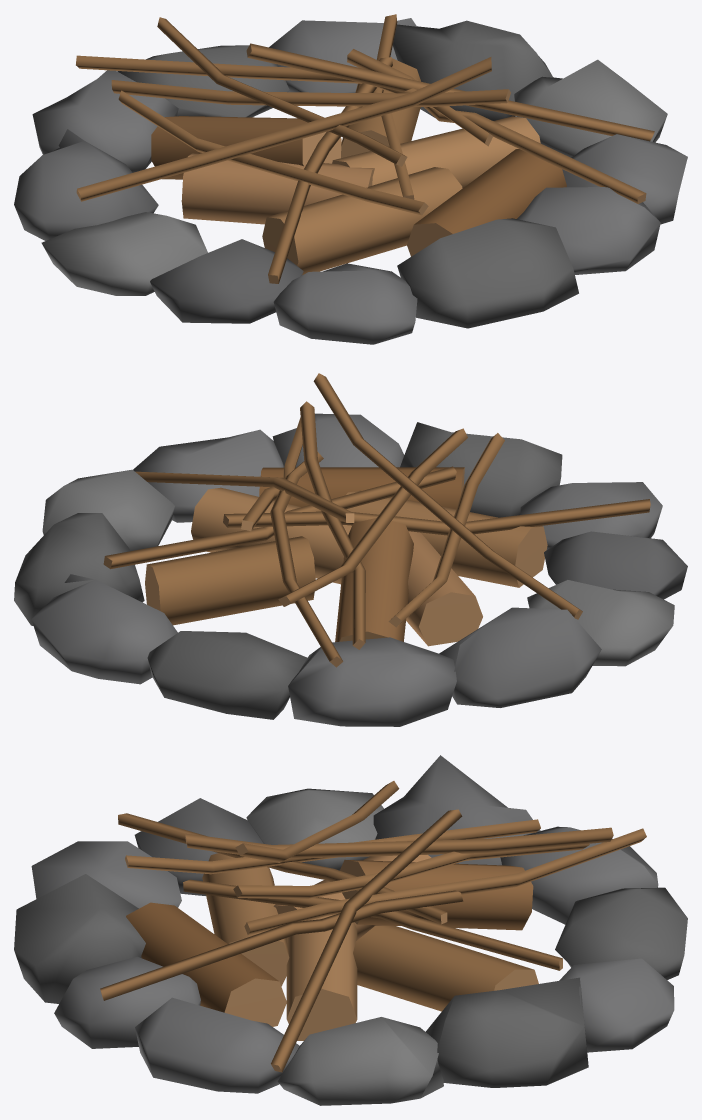
The model's file is Fire_B.fbx.
3 views of the same model, one above another, from view 1: azimuth 30°, elevation 25°; view 2: azimuth 150°, elevation 25°; view 3: azimuth 270°, elevation 25° (orthographic). The views are drawn at different scales.
Parts seen in each view (by area): view 1: Fire_B; view 2: Fire_B; view 3: Fire_B.
Part boxes in pixels (x1=…): Fire_B: x1=14, y1=14, x2=687, y2=344; Fire_B: x1=14, y1=373, x2=687, y2=726; Fire_B: x1=14, y1=755, x2=687, y2=1105.
Bounding box in the file's own units: 131 × 35.21 × 125.
